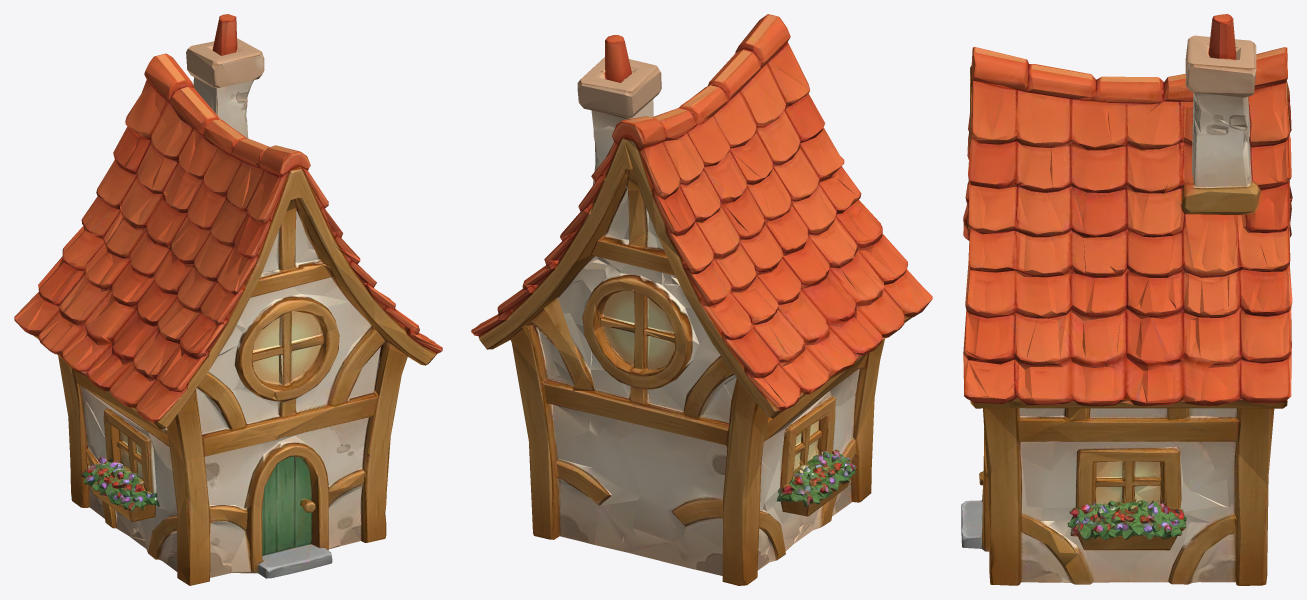
Rendered from cottage.glb.
The picture shows the model from 3 angles, left to right: view 1: azimuth 30°, elevation 25°; view 2: azimuth 150°, elevation 25°; view 3: azimuth 270°, elevation 25°; orthographic projection. The views are drawn at different scales.
Bounding box in the file's own units: 1.28 × 1.9 × 1.07.
Materials: 1 (1 with a texture image).
